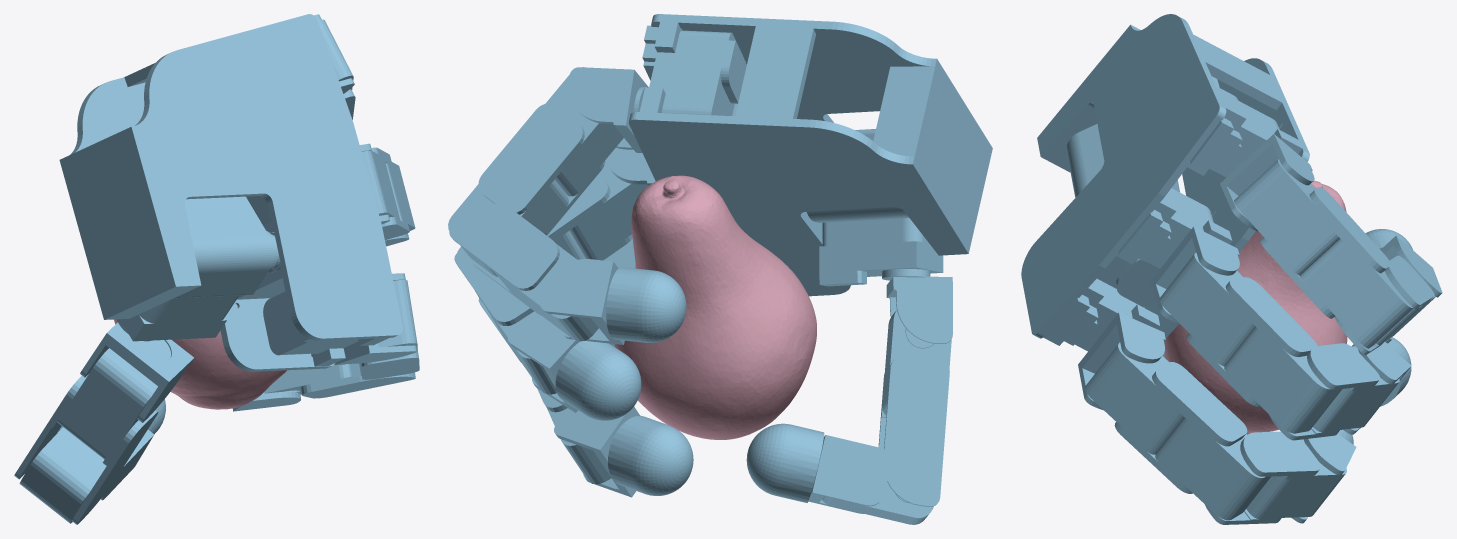
3 views of the same model, side by side, from view 1: azimuth 30°, elevation 25°; view 2: azimuth 150°, elevation 25°; view 3: azimuth 270°, elevation 25° (orthographic). The views are drawn at different scales.
Parts seen in each view (by area): view 1: world; view 2: world; view 3: world.
Part boxes in pixels (x1,y1,x2,y2): world: (14,14,419,524); world: (448,14,992,524); world: (1021,14,1442,524).
Bounding box in the file's own units: 0.1661 × 0.171 × 0.1505.
